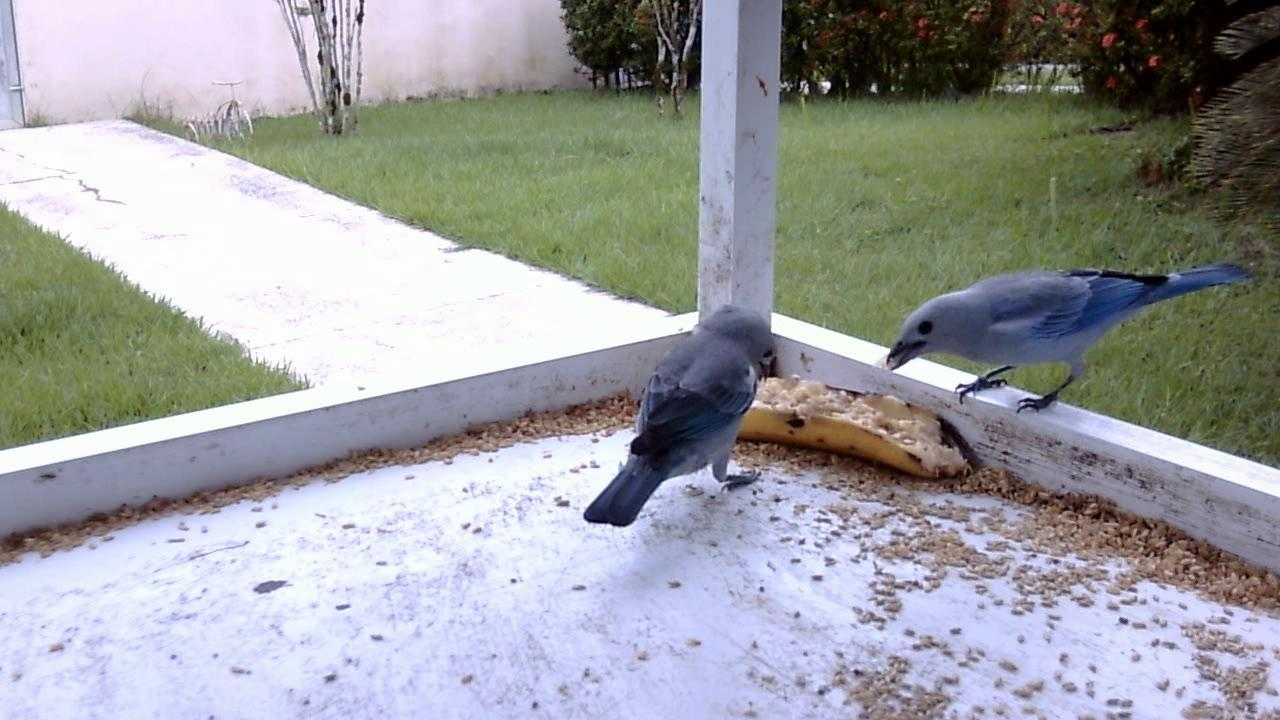sanhaco_da_amazonia: (882, 252, 1254, 433), (580, 300, 785, 529)
